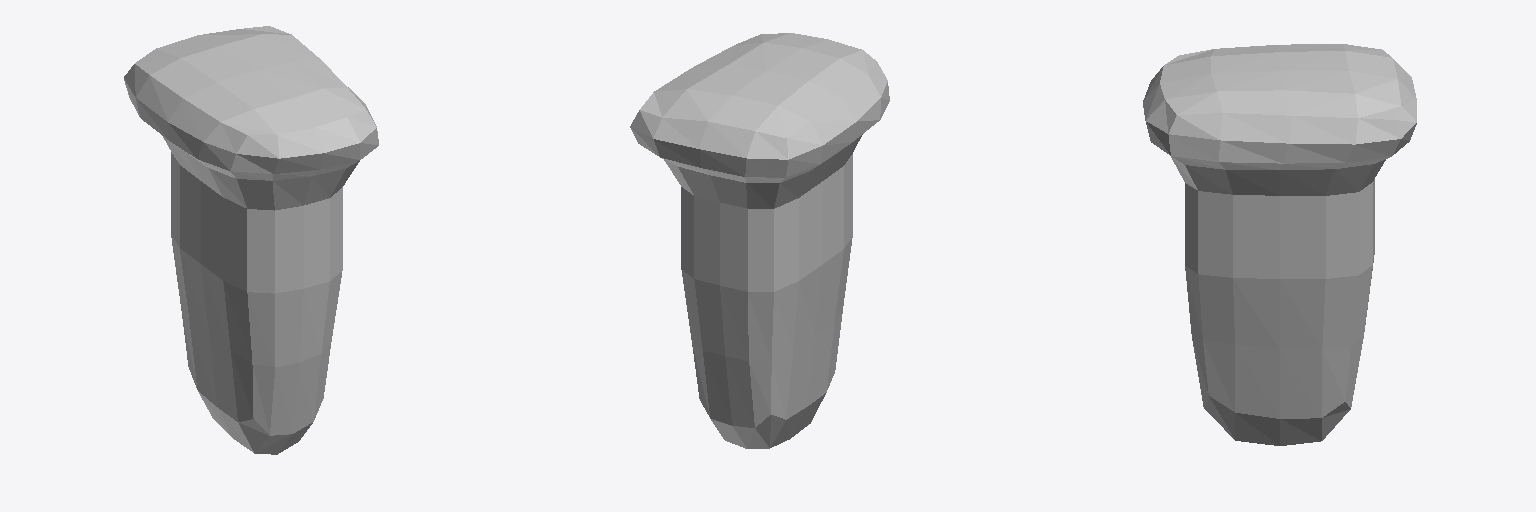
The model's file is FirstPlatform.obj.
The picture shows the model from 3 angles: view 1: azimuth 30°, elevation 25°; view 2: azimuth 150°, elevation 25°; view 3: azimuth 270°, elevation 25°; orthographic projection.
Parts seen in each view (by area): view 1: First_Platform_First_Platform.001; view 2: First_Platform_First_Platform.001; view 3: First_Platform_First_Platform.001.
Part boxes in pixels (x1,y1,x2,y2): First_Platform_First_Platform.001: (124,26,378,454); First_Platform_First_Platform.001: (630,33,889,448); First_Platform_First_Platform.001: (1143,44,1416,445).
Bounding box in the file's own units: 18.78 × 37.61 × 25.23.